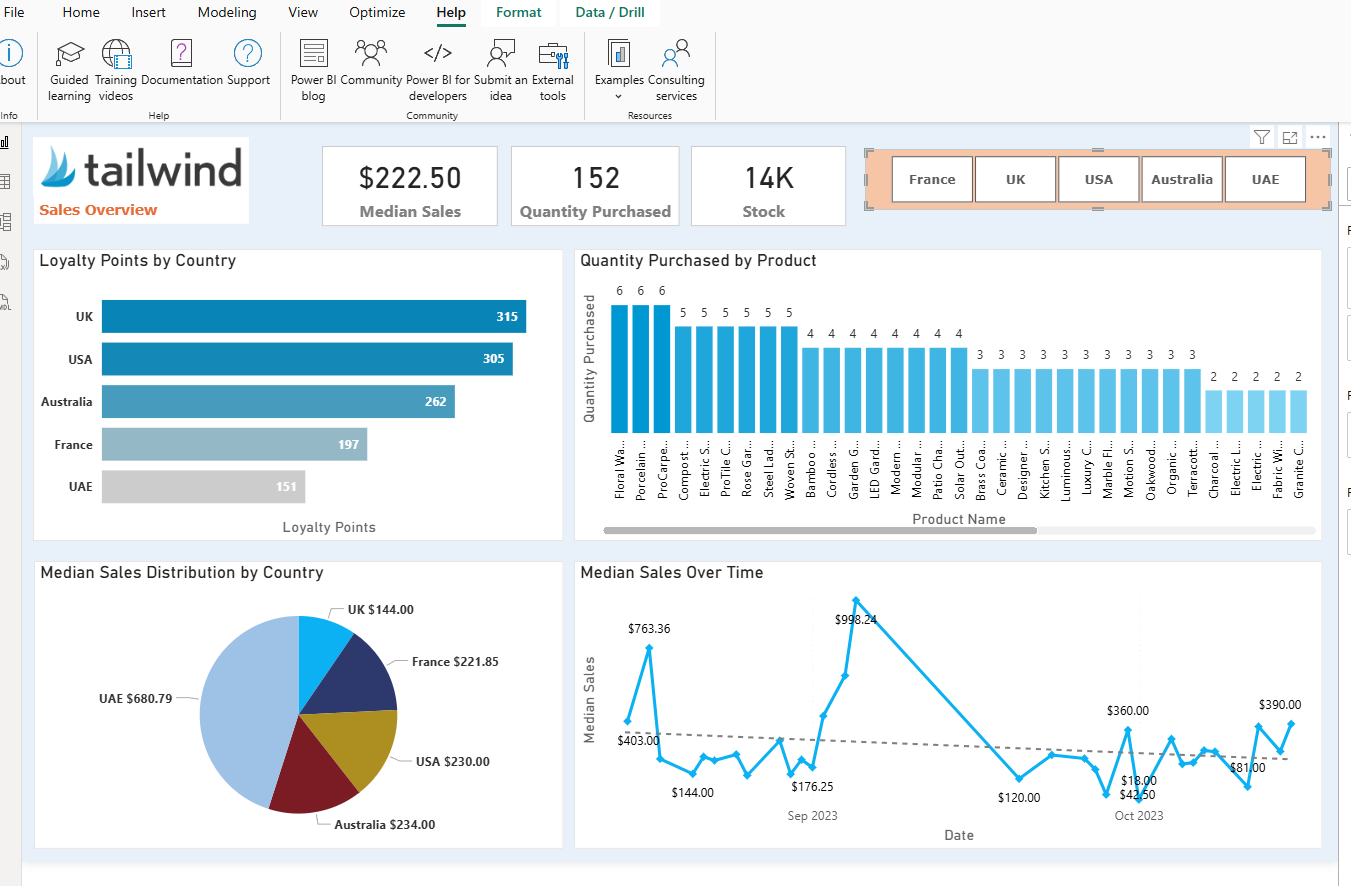

The dashboard page shown, as its layout file describes it:
{"tool":"powerbi","page":{"name":"Sales Overview","canvas":[1280,720],"ordinal":0},"visuals":[{"type":"barChart","title":"Loyalty Points by Country","fields":{"Category":["Countries.Country"],"Y":["Sum(Sales in USD. Loyalty Points)"]},"box":[10.7,123.5,515.5,284],"z":0},{"type":"columnChart","title":"Quantity Purchased by Product","fields":{"Category":["Sales in USD.Product Name"],"Y":["Sum(Sales in USD.Quantity Purchased)"]},"box":[536.9,123.5,727.5,284],"z":1000},{"type":"pieChart","title":"Median Sales Distribution by Country","fields":{"Category":["Countries.Country"],"Y":["Sales in USD.Median Sales"]},"box":[11.7,427,514.5,280.1],"z":2000},{"type":"lineChart","title":"Median Sales Over Time","fields":{"Category":["CalendarTable.Date"],"Y":["Sales in USD.Median Sales"]},"box":[536.9,427,727.5,280.1],"z":3000},{"type":"card","fields":{"Values":["Sum(Sales in USD. Stock  )"]},"box":[650.7,23.3,150.8,77.8],"z":4000},{"type":"card","fields":{"Values":["Sum(Sales in USD.Quantity Purchased)"]},"box":[475.6,23.3,164.4,77.8],"z":5000},{"type":"card","fields":{"Values":["Sales in USD.Median Sales"]},"box":[291.8,23.3,171.2,77.8],"z":6000},{"type":"slicer","fields":{"Values":["Sales in USD.Country Name"]},"box":[819.9,26.3,453.3,59.3],"z":7000},{"type":"image","box":[10.7,7.8,210.1,71],"z":8000},{"type":"textbox","box":[11.7,71,209.1,28.2],"z":9000}]}

Visuals, with their boxes on the page's 1280x720 design canvas (x1, y1, x2, y2). These are canvas units, not pixel positions in the 1351x886 screenshot, which may show the page scaled, cropped or inside an application window:
"Loyalty Points by Country" barChart: Rect(11, 124, 526, 408)
"Quantity Purchased by Product" columnChart: Rect(537, 124, 1264, 408)
"Median Sales Distribution by Country" pieChart: Rect(12, 427, 526, 707)
"Median Sales Over Time" lineChart: Rect(537, 427, 1264, 707)
card - Sum(Sales in USD. Stock  ): Rect(651, 23, 802, 101)
card - Sum(Sales in USD.Quantity Purchased): Rect(476, 23, 640, 101)
card - Sales in USD.Median Sales: Rect(292, 23, 463, 101)
slicer - Sales in USD.Country Name: Rect(820, 26, 1273, 86)
image: Rect(11, 8, 221, 79)
textbox: Rect(12, 71, 221, 99)
